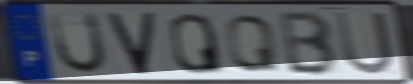B: (278, 9, 340, 78)
Q: (167, 11, 226, 76), (223, 12, 281, 74)
U: (333, 10, 397, 77), (47, 10, 109, 76)
V: (104, 10, 159, 77)
